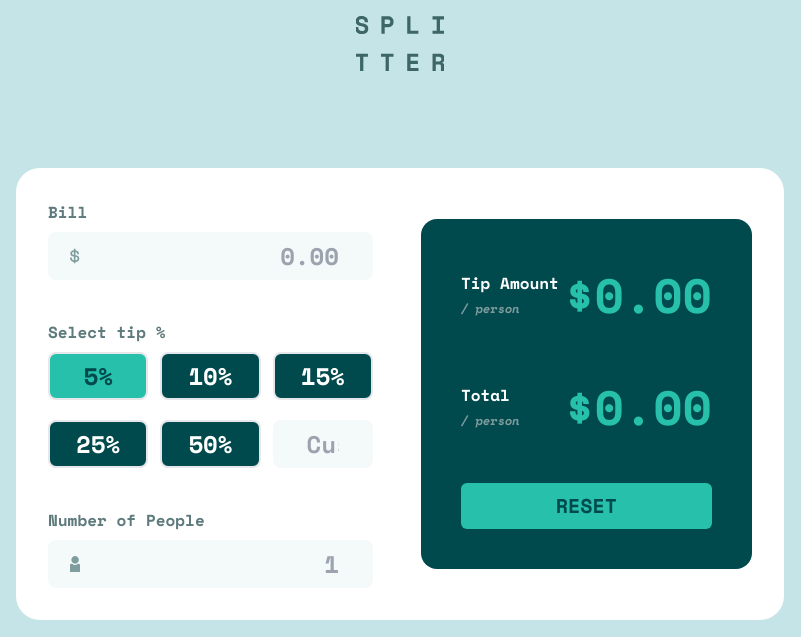
Test: TipForm Component › handle reset › handle reset
Type "100" into the field labelled "Bill" at (210, 256), box left=48, top=232, right=373, bottom=280
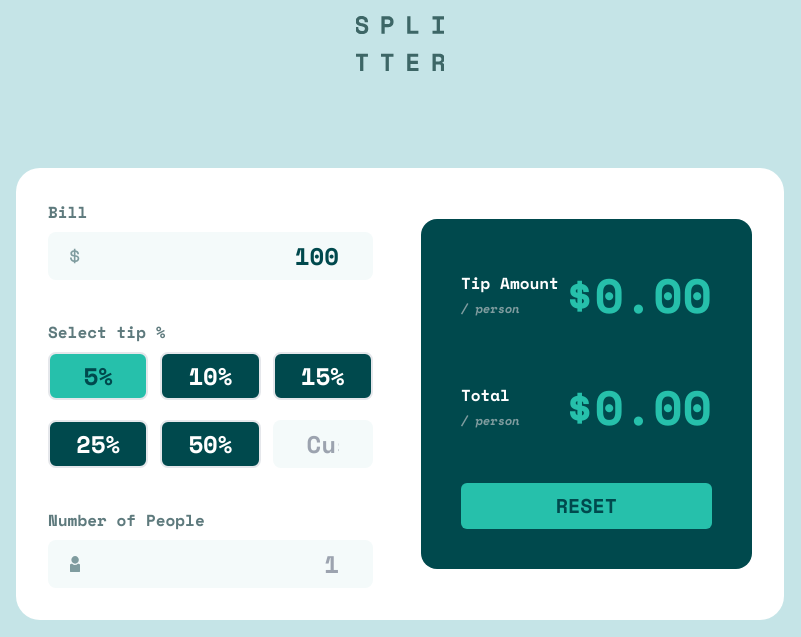
Type "2" into the field labelled "Number of People" at (210, 564), box left=48, top=540, right=373, bottom=588
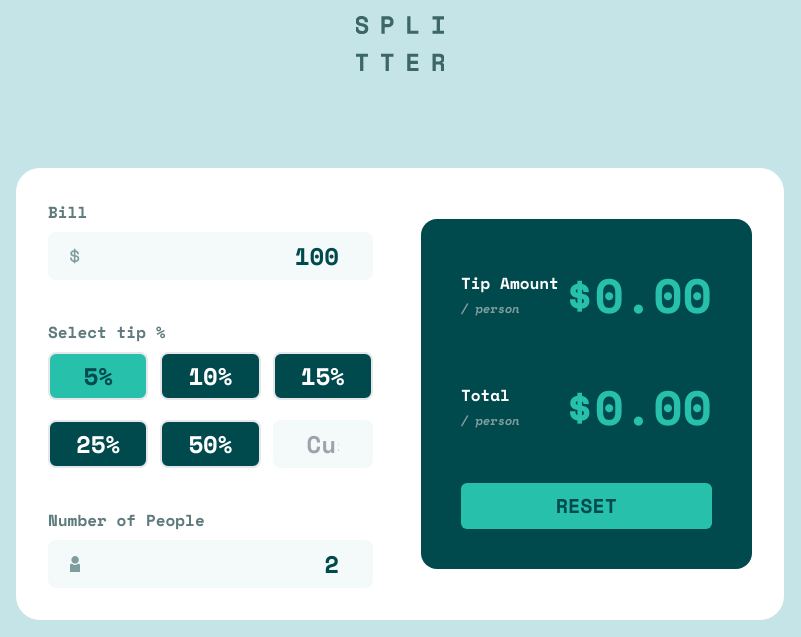
Type "10" into the field with placeholder "Custom" at (323, 444), box left=273, top=420, right=373, bottom=468
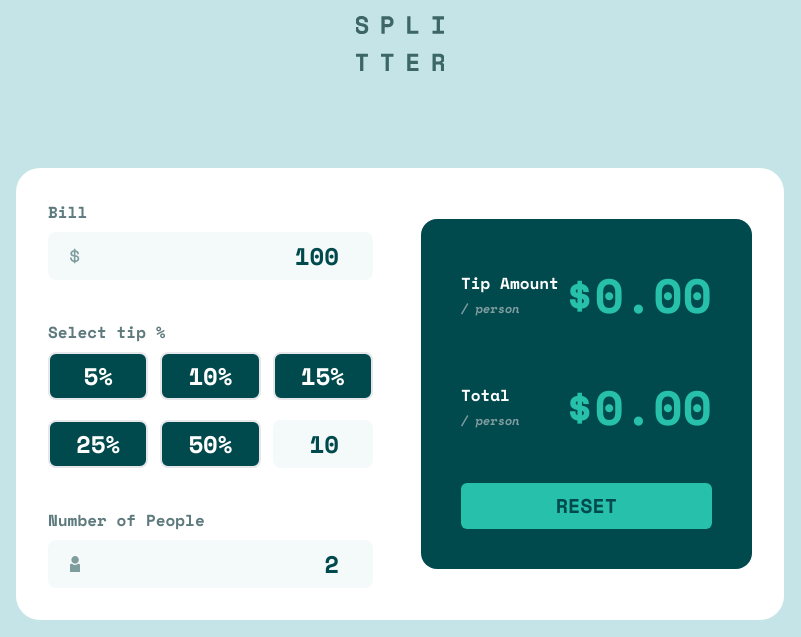
Click the button "Reset" at (586, 506), box left=461, top=483, right=712, bottom=529
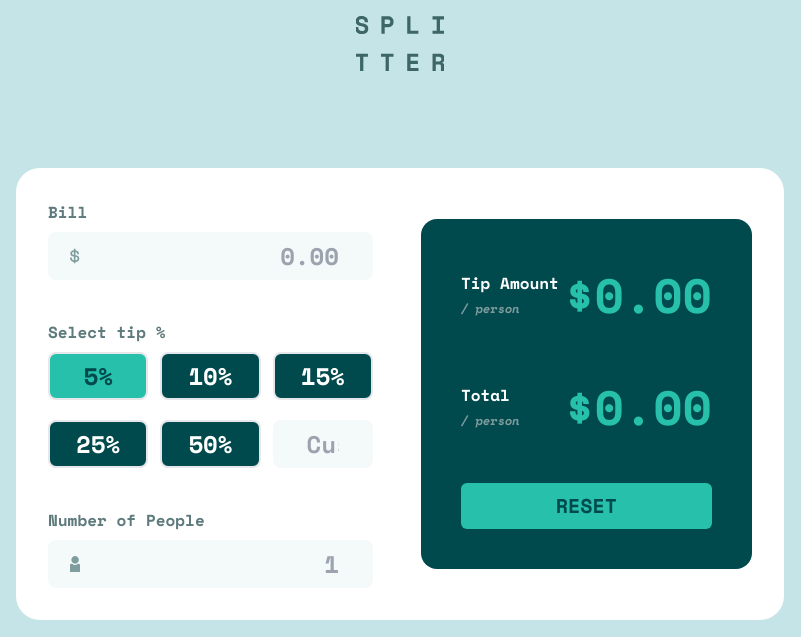
expect the text "$0.00" next to "Tip Amount" is shown: met, box left=565, top=259, right=712, bottom=331
expect the field labelled "Bill" is empty: met, box left=48, top=232, right=373, bottom=280
expect the field labelled "Number of People" is empty: met, box left=48, top=540, right=373, bottom=588
